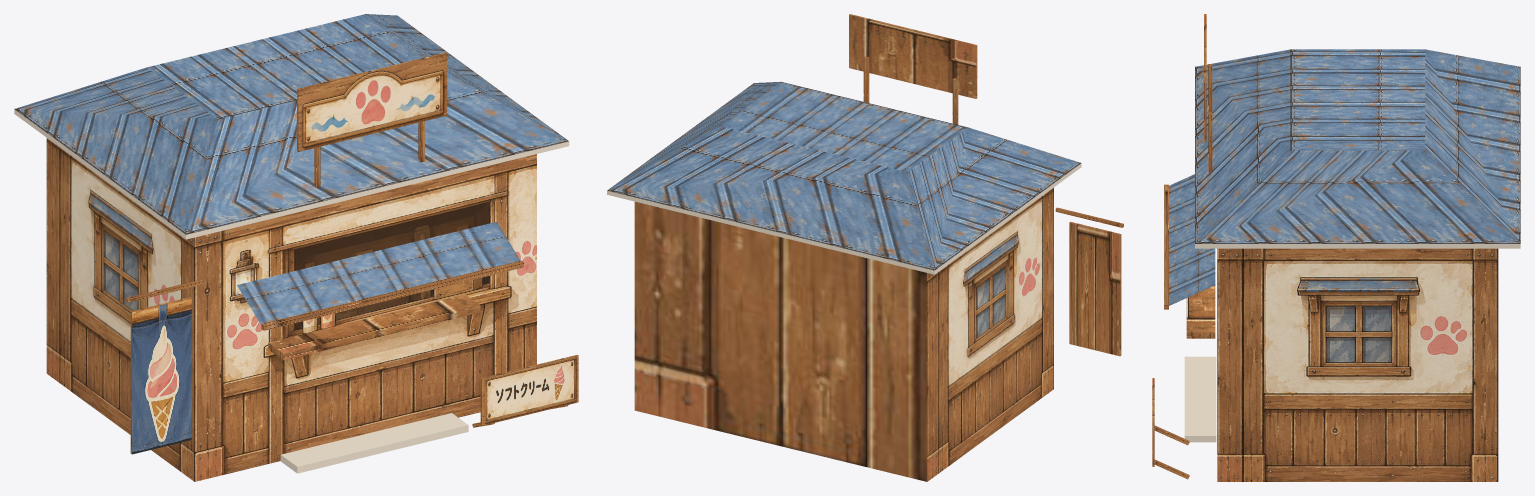
Rendered from nyanisyarud-harbor-kiosk.glb.
The picture shows the model from 3 angles, left to right: view 1: azimuth 30°, elevation 25°; view 2: azimuth 150°, elevation 25°; view 3: azimuth 270°, elevation 25°; orthographic projection. The views are drawn at different scales.
Visible parts, largest first — view 1: Harbor_Ice_Cream_Kiosk; view 2: Harbor_Ice_Cream_Kiosk; view 3: Harbor_Ice_Cream_Kiosk.
Part boxes in pixels (x1,y1,x2,y2): Harbor_Ice_Cream_Kiosk: (14, 14, 578, 481); Harbor_Ice_Cream_Kiosk: (607, 14, 1123, 481); Harbor_Ice_Cream_Kiosk: (1152, 14, 1520, 481).
Bounding box in the file's own units: 2.35 × 1.92 × 1.81.
1 material, 1 textured.
